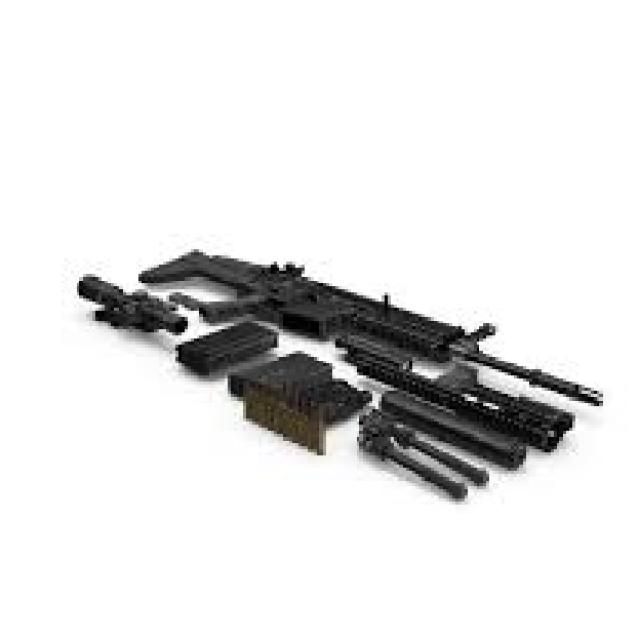Gun: (18, 247, 600, 453)
